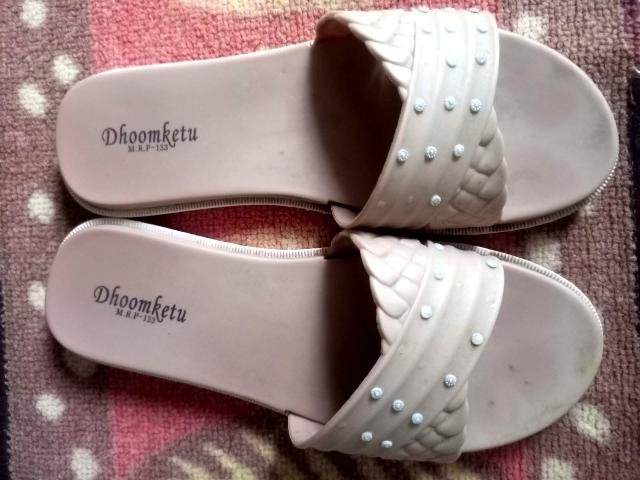sandal: (4, 135, 606, 472), (29, 0, 604, 235)
